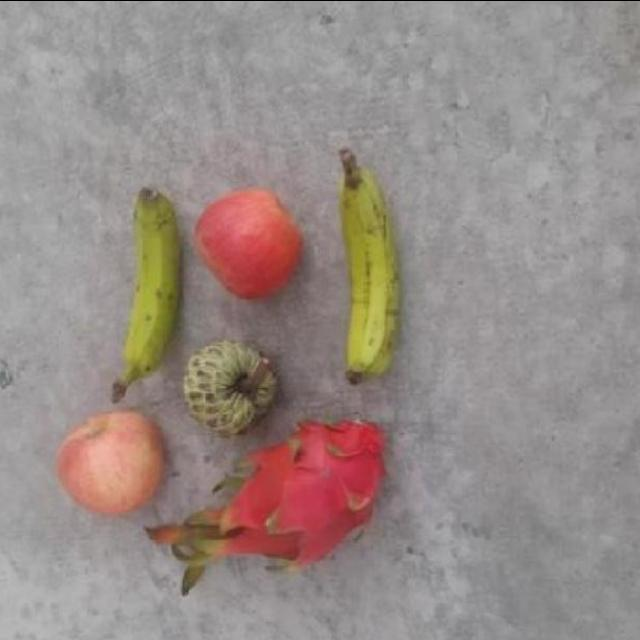apple: (195, 184, 308, 298), (58, 402, 166, 516)
banana: (98, 178, 185, 384), (330, 170, 408, 390)
dragon fruit: (228, 412, 394, 566)
sugar apple: (180, 337, 276, 429)
